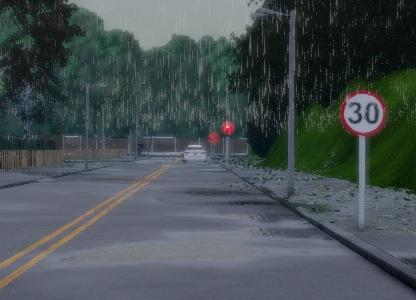Speed_30: (339, 92, 389, 138)
